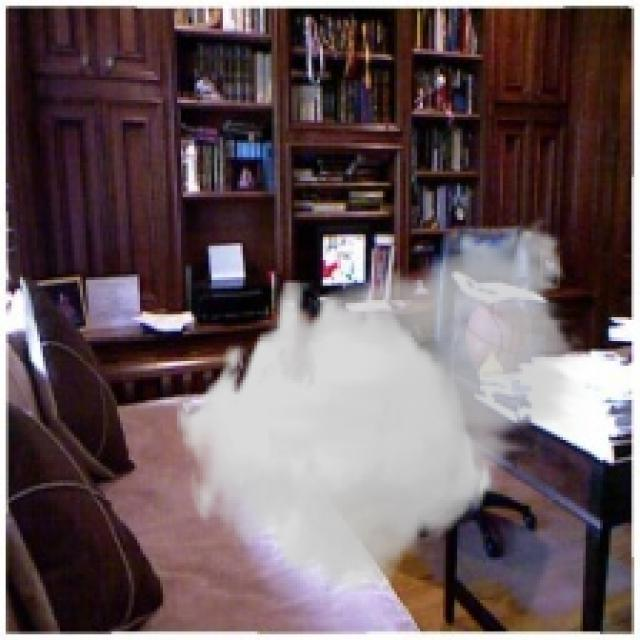Smoke: (174, 208, 589, 592)
